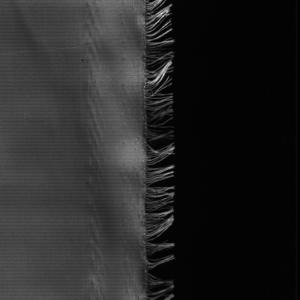Damage: (126, 1, 194, 300)
Wrinkle: (1, 1, 77, 266)
